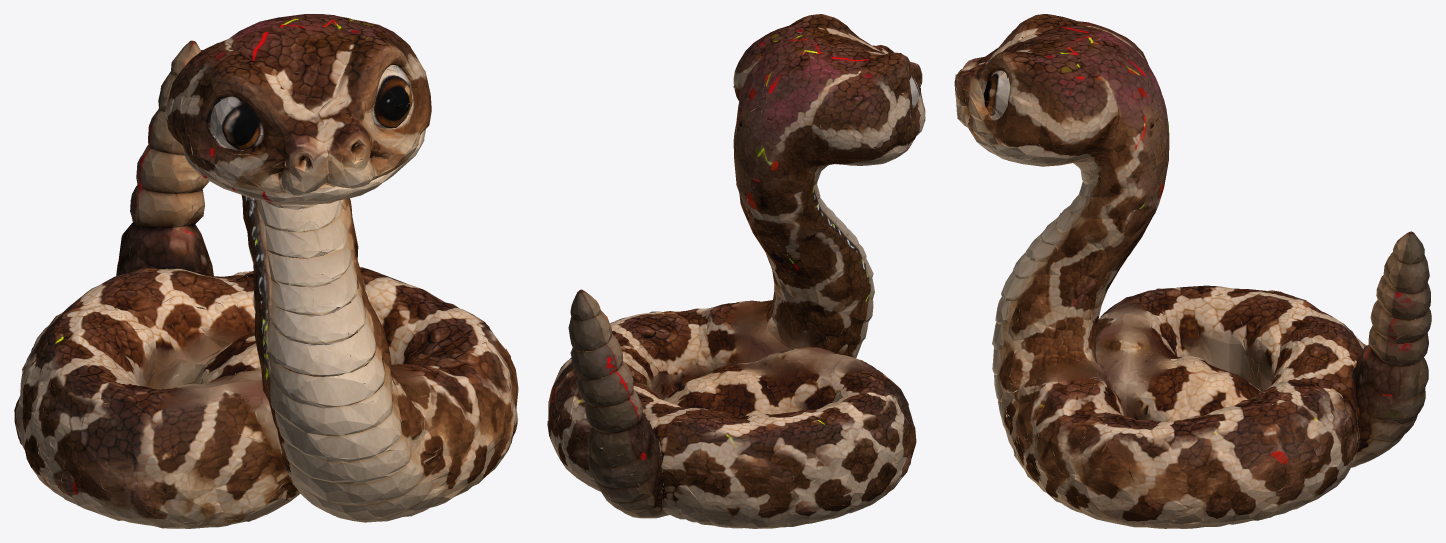
File: serpiente.fbx
3 views of the same model, side by side, from view 1: azimuth 30°, elevation 25°; view 2: azimuth 150°, elevation 25°; view 3: azimuth 270°, elevation 25° (orthographic). The views are drawn at different scales.
Parts seen in each view (by area): view 1: serpiente; view 2: serpiente; view 3: serpiente.
Boxes of the visible parts, x1,y1,x2,y2 form: serpiente: [14, 14, 518, 528]; serpiente: [547, 14, 925, 528]; serpiente: [954, 14, 1431, 528].
Bounding box in the file's own units: 1.71 × 1.87 × 1.99.
1 material, 1 textured.
